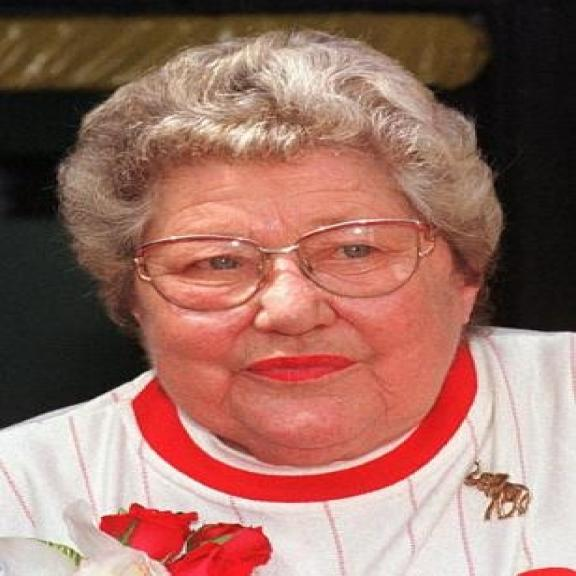face: (120, 149, 470, 459)
